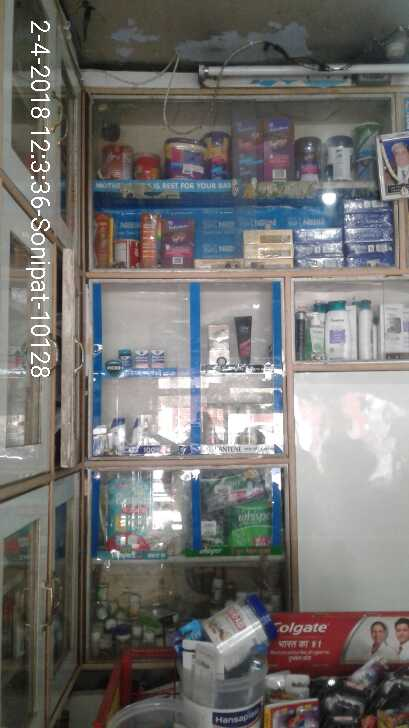vicks: (116, 344, 168, 368)
